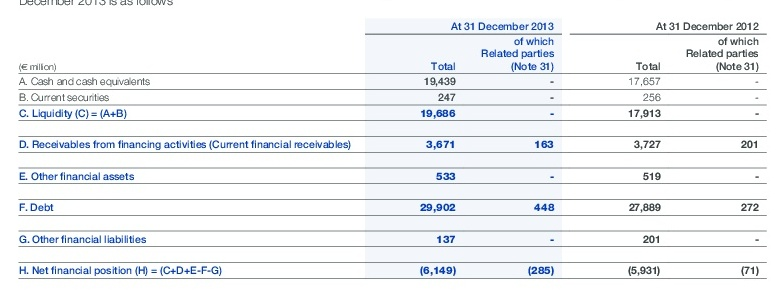table: (0, 0, 784, 292)
